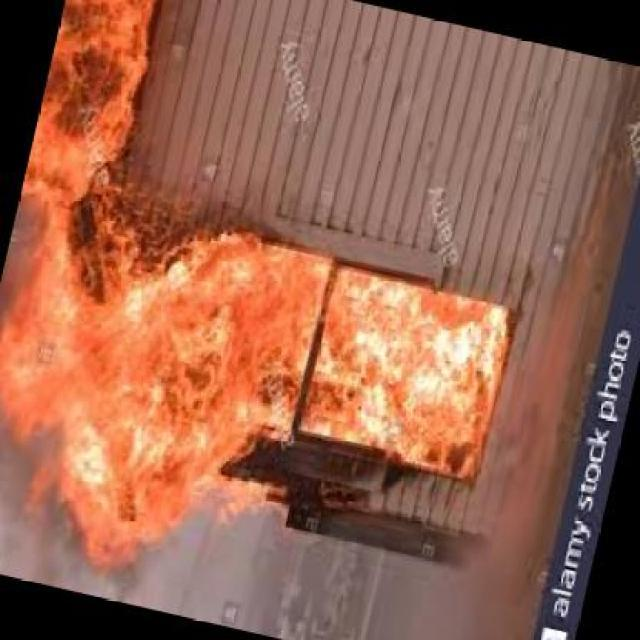Fire: (46, 11, 508, 575)
